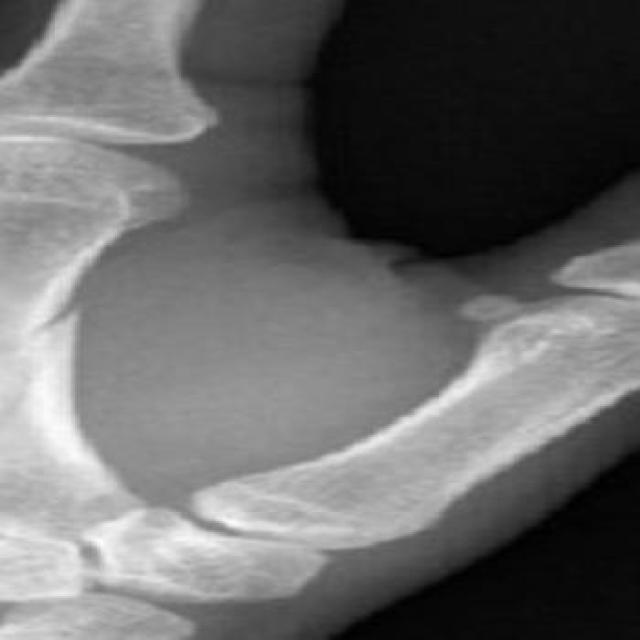Fracture: (7, 291, 107, 362)
